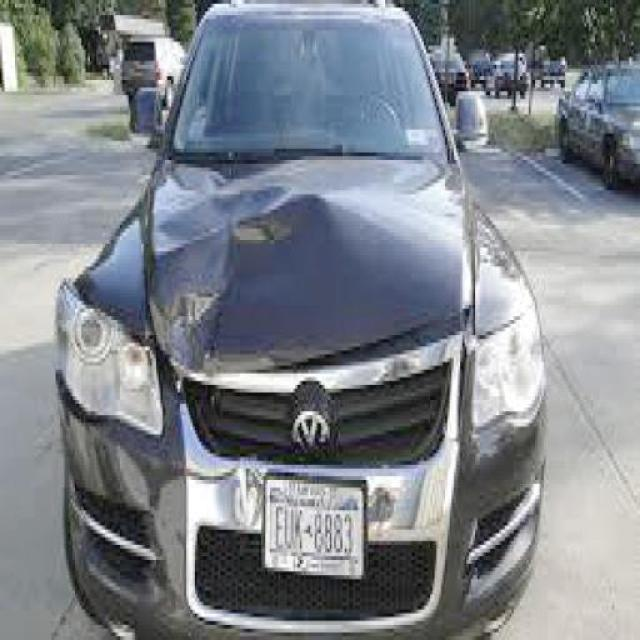car damage: (145, 169, 400, 458)
